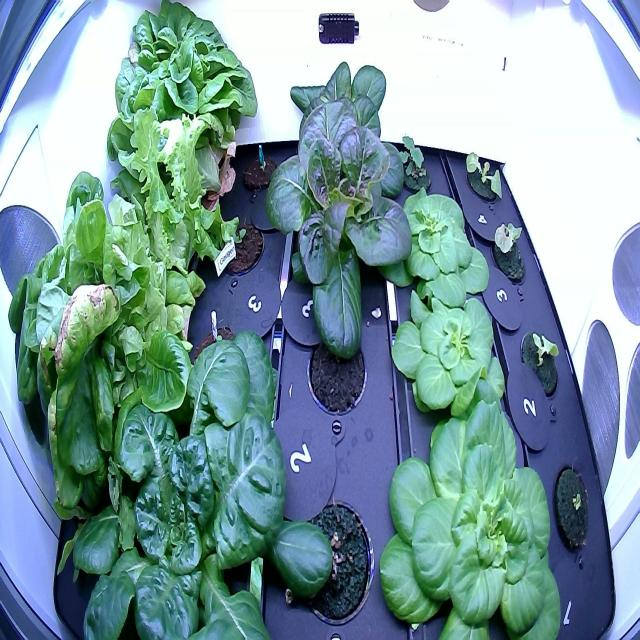Ready: (4, 167, 204, 532), (101, 0, 261, 218)
germination: (288, 491, 382, 634), (547, 459, 596, 565), (208, 208, 268, 288), (238, 146, 283, 212)
pod: (300, 324, 371, 424)
young: (57, 319, 344, 638), (368, 390, 567, 638), (258, 94, 422, 367), (386, 279, 511, 432), (282, 40, 404, 192), (372, 177, 492, 315), (516, 316, 568, 408), (485, 215, 530, 298), (461, 145, 508, 213)
